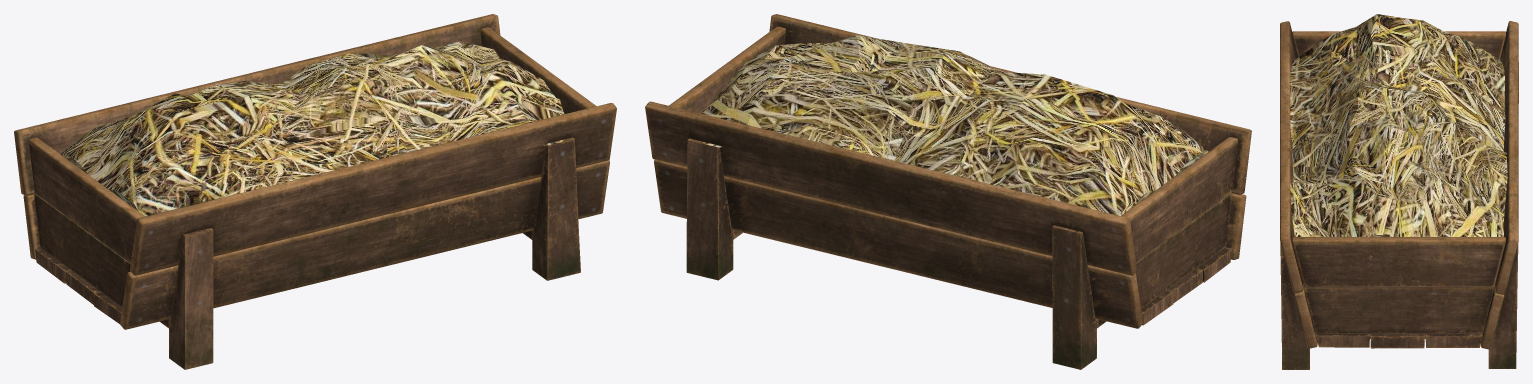
Rendered from mdl_franch_trough.gltf.
3 views of the same model, side by side, from view 1: azimuth 30°, elevation 25°; view 2: azimuth 150°, elevation 25°; view 3: azimuth 270°, elevation 25° (orthographic). The views are drawn at different scales.
Visible parts, largest first — view 1: support_behind_low, Plane; view 2: support_behind_low, Plane; view 3: Plane, support_behind_low.
Boxes of the visible parts, x1=… form: support_behind_low: x1=14, y1=14, x2=616, y2=369; Plane: x1=60, y1=41, x2=564, y2=216; support_behind_low: x1=645, y1=14, x2=1251, y2=369; Plane: x1=701, y1=35, x2=1208, y2=215; Plane: x1=1289, y1=14, x2=1507, y2=236; support_behind_low: x1=1280, y1=21, x2=1518, y2=369.
Bounding box in the file's own units: 2.29 × 0.9583 × 1.05.
Materials: 2 (2 with a texture image).
